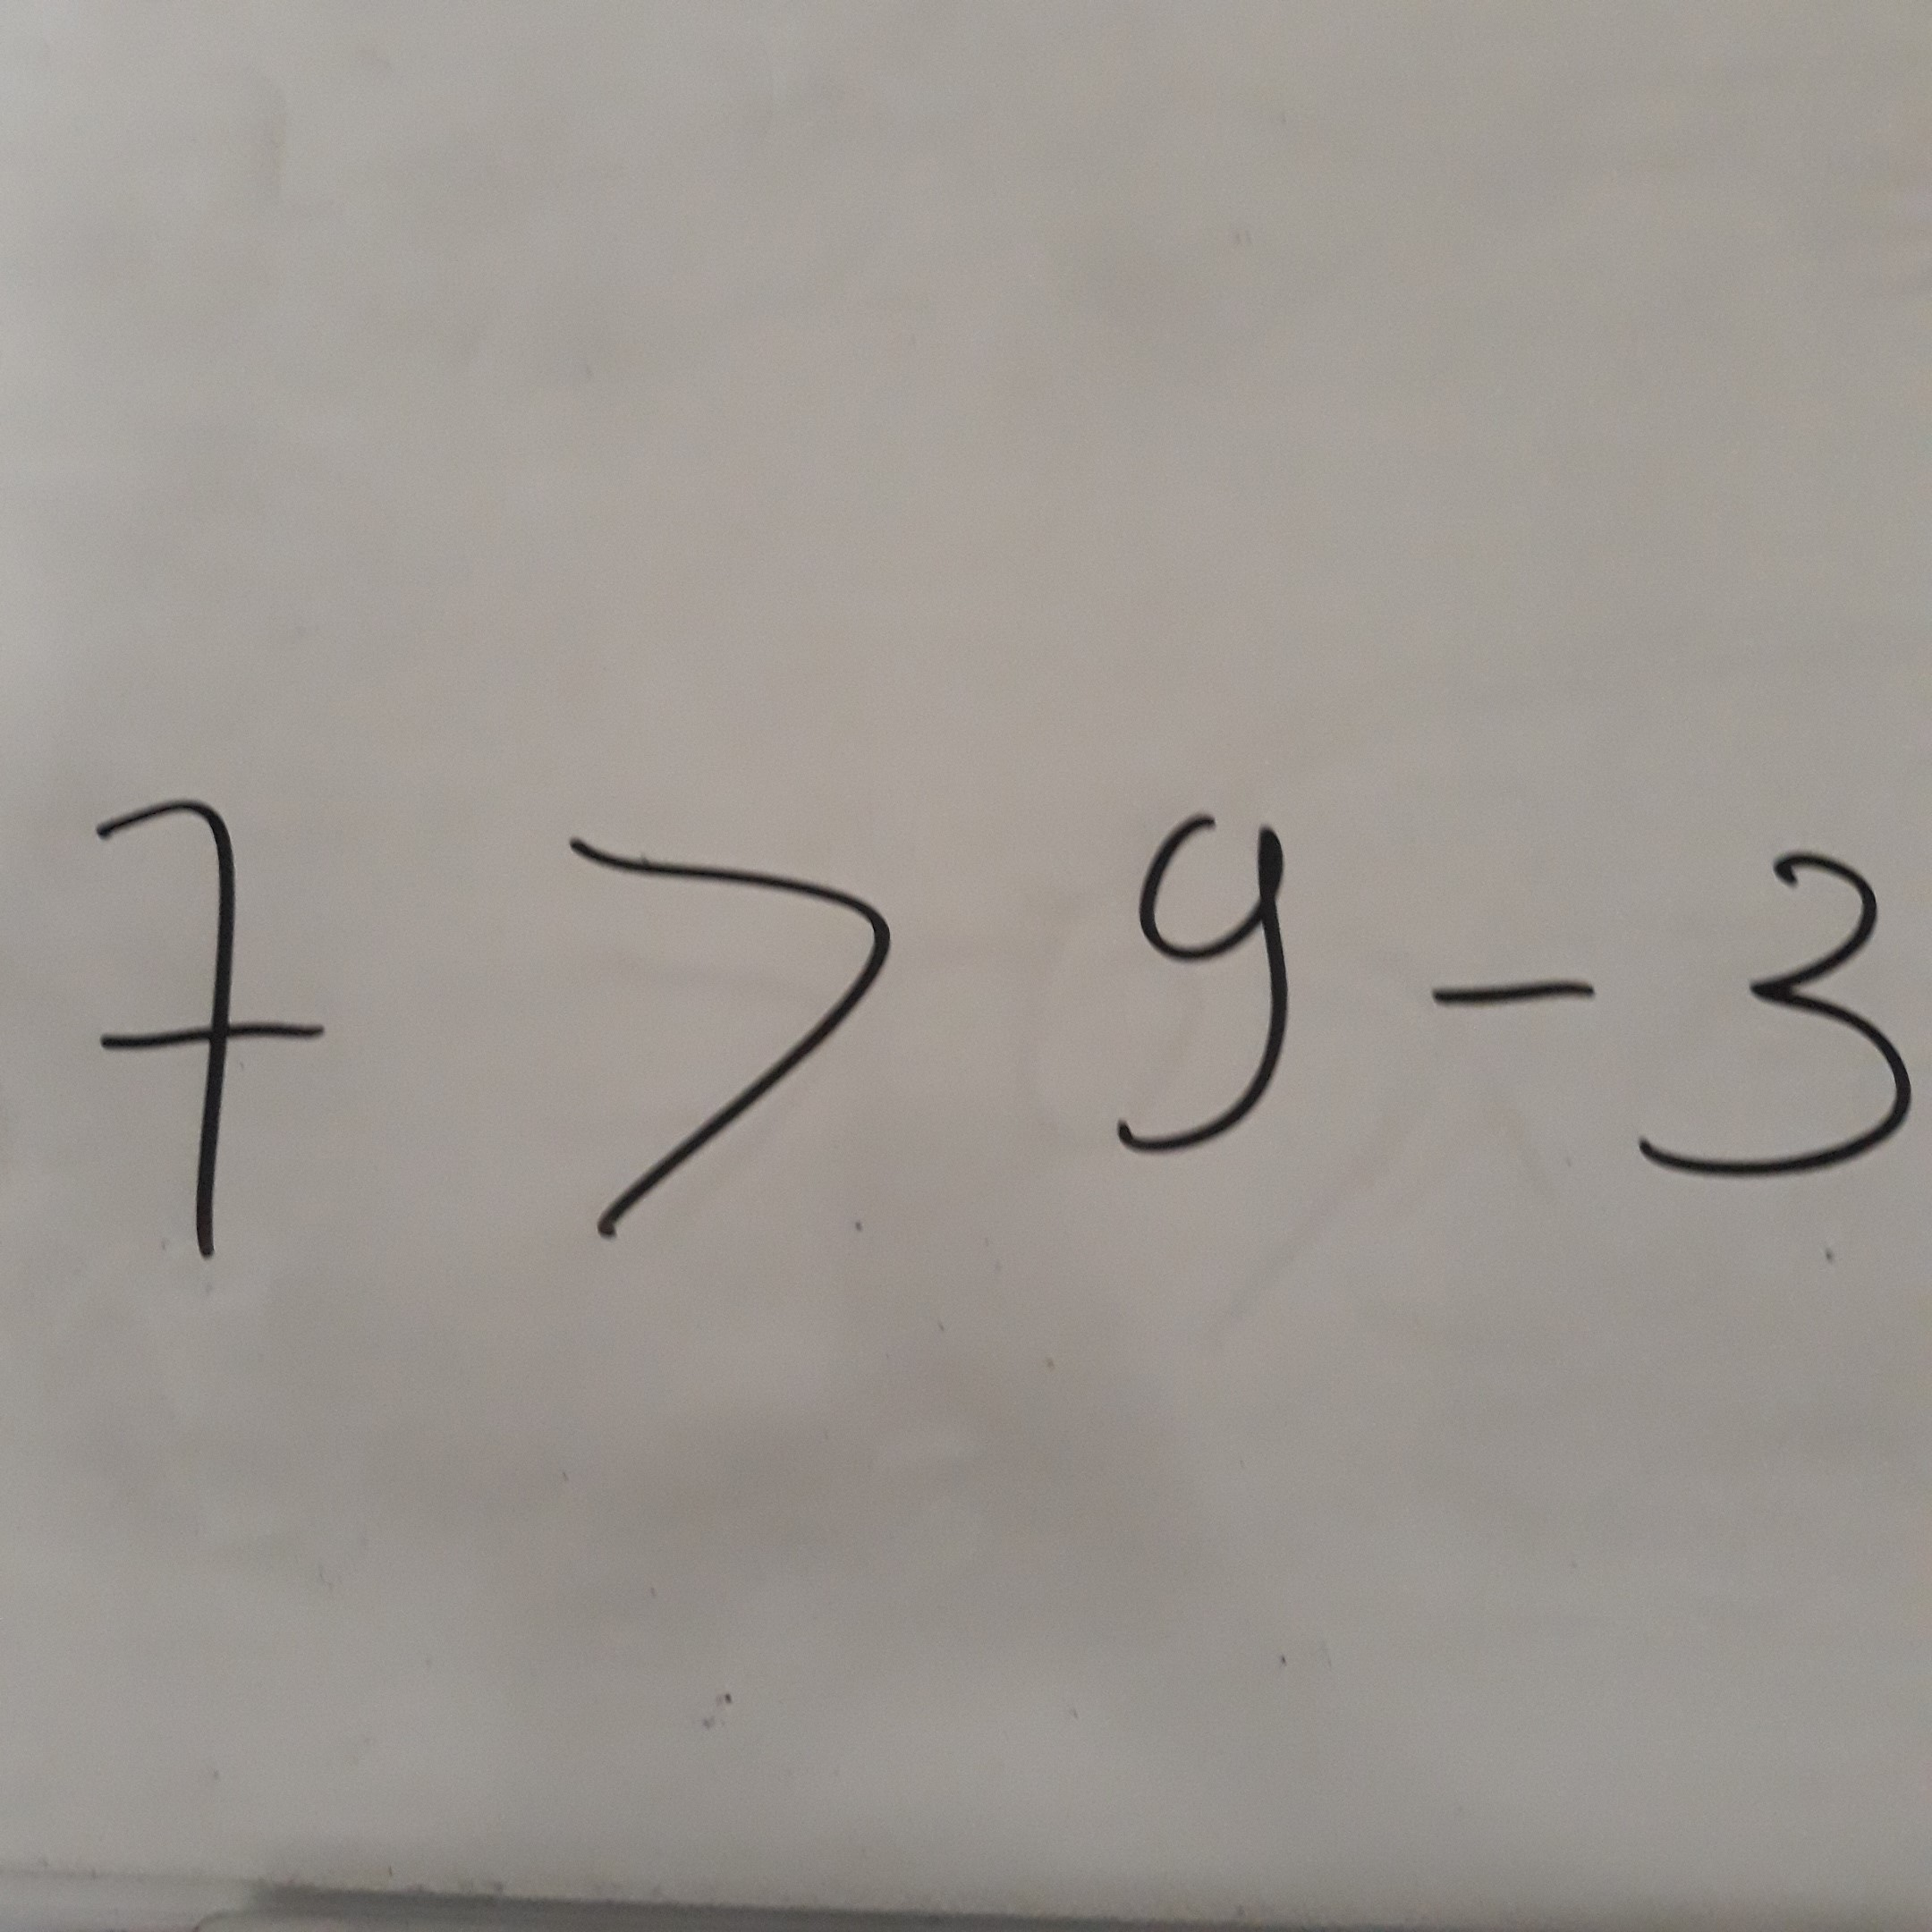min: (1386, 947, 1622, 1035)
morethan: (546, 787, 925, 1268)
num3: (1626, 842, 1928, 1199)
num7: (49, 780, 345, 1300)
num9: (1029, 801, 1364, 1165)
